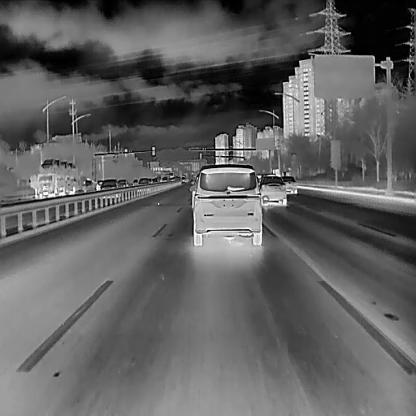car: (187, 163, 263, 246), (35, 158, 78, 197), (259, 173, 287, 207), (100, 178, 118, 193), (282, 175, 296, 194), (80, 178, 96, 191), (139, 176, 150, 188), (118, 178, 128, 189), (151, 176, 159, 184), (161, 174, 168, 182), (132, 178, 138, 184), (180, 176, 186, 182), (169, 176, 175, 182)
